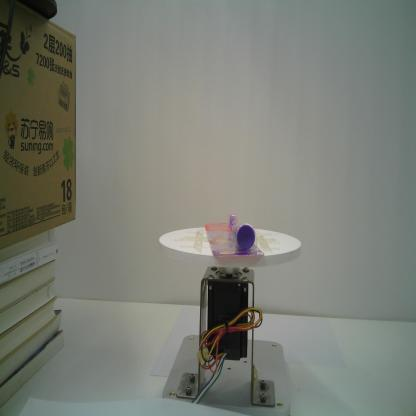Personal Hygiene: (205, 211, 265, 258)
